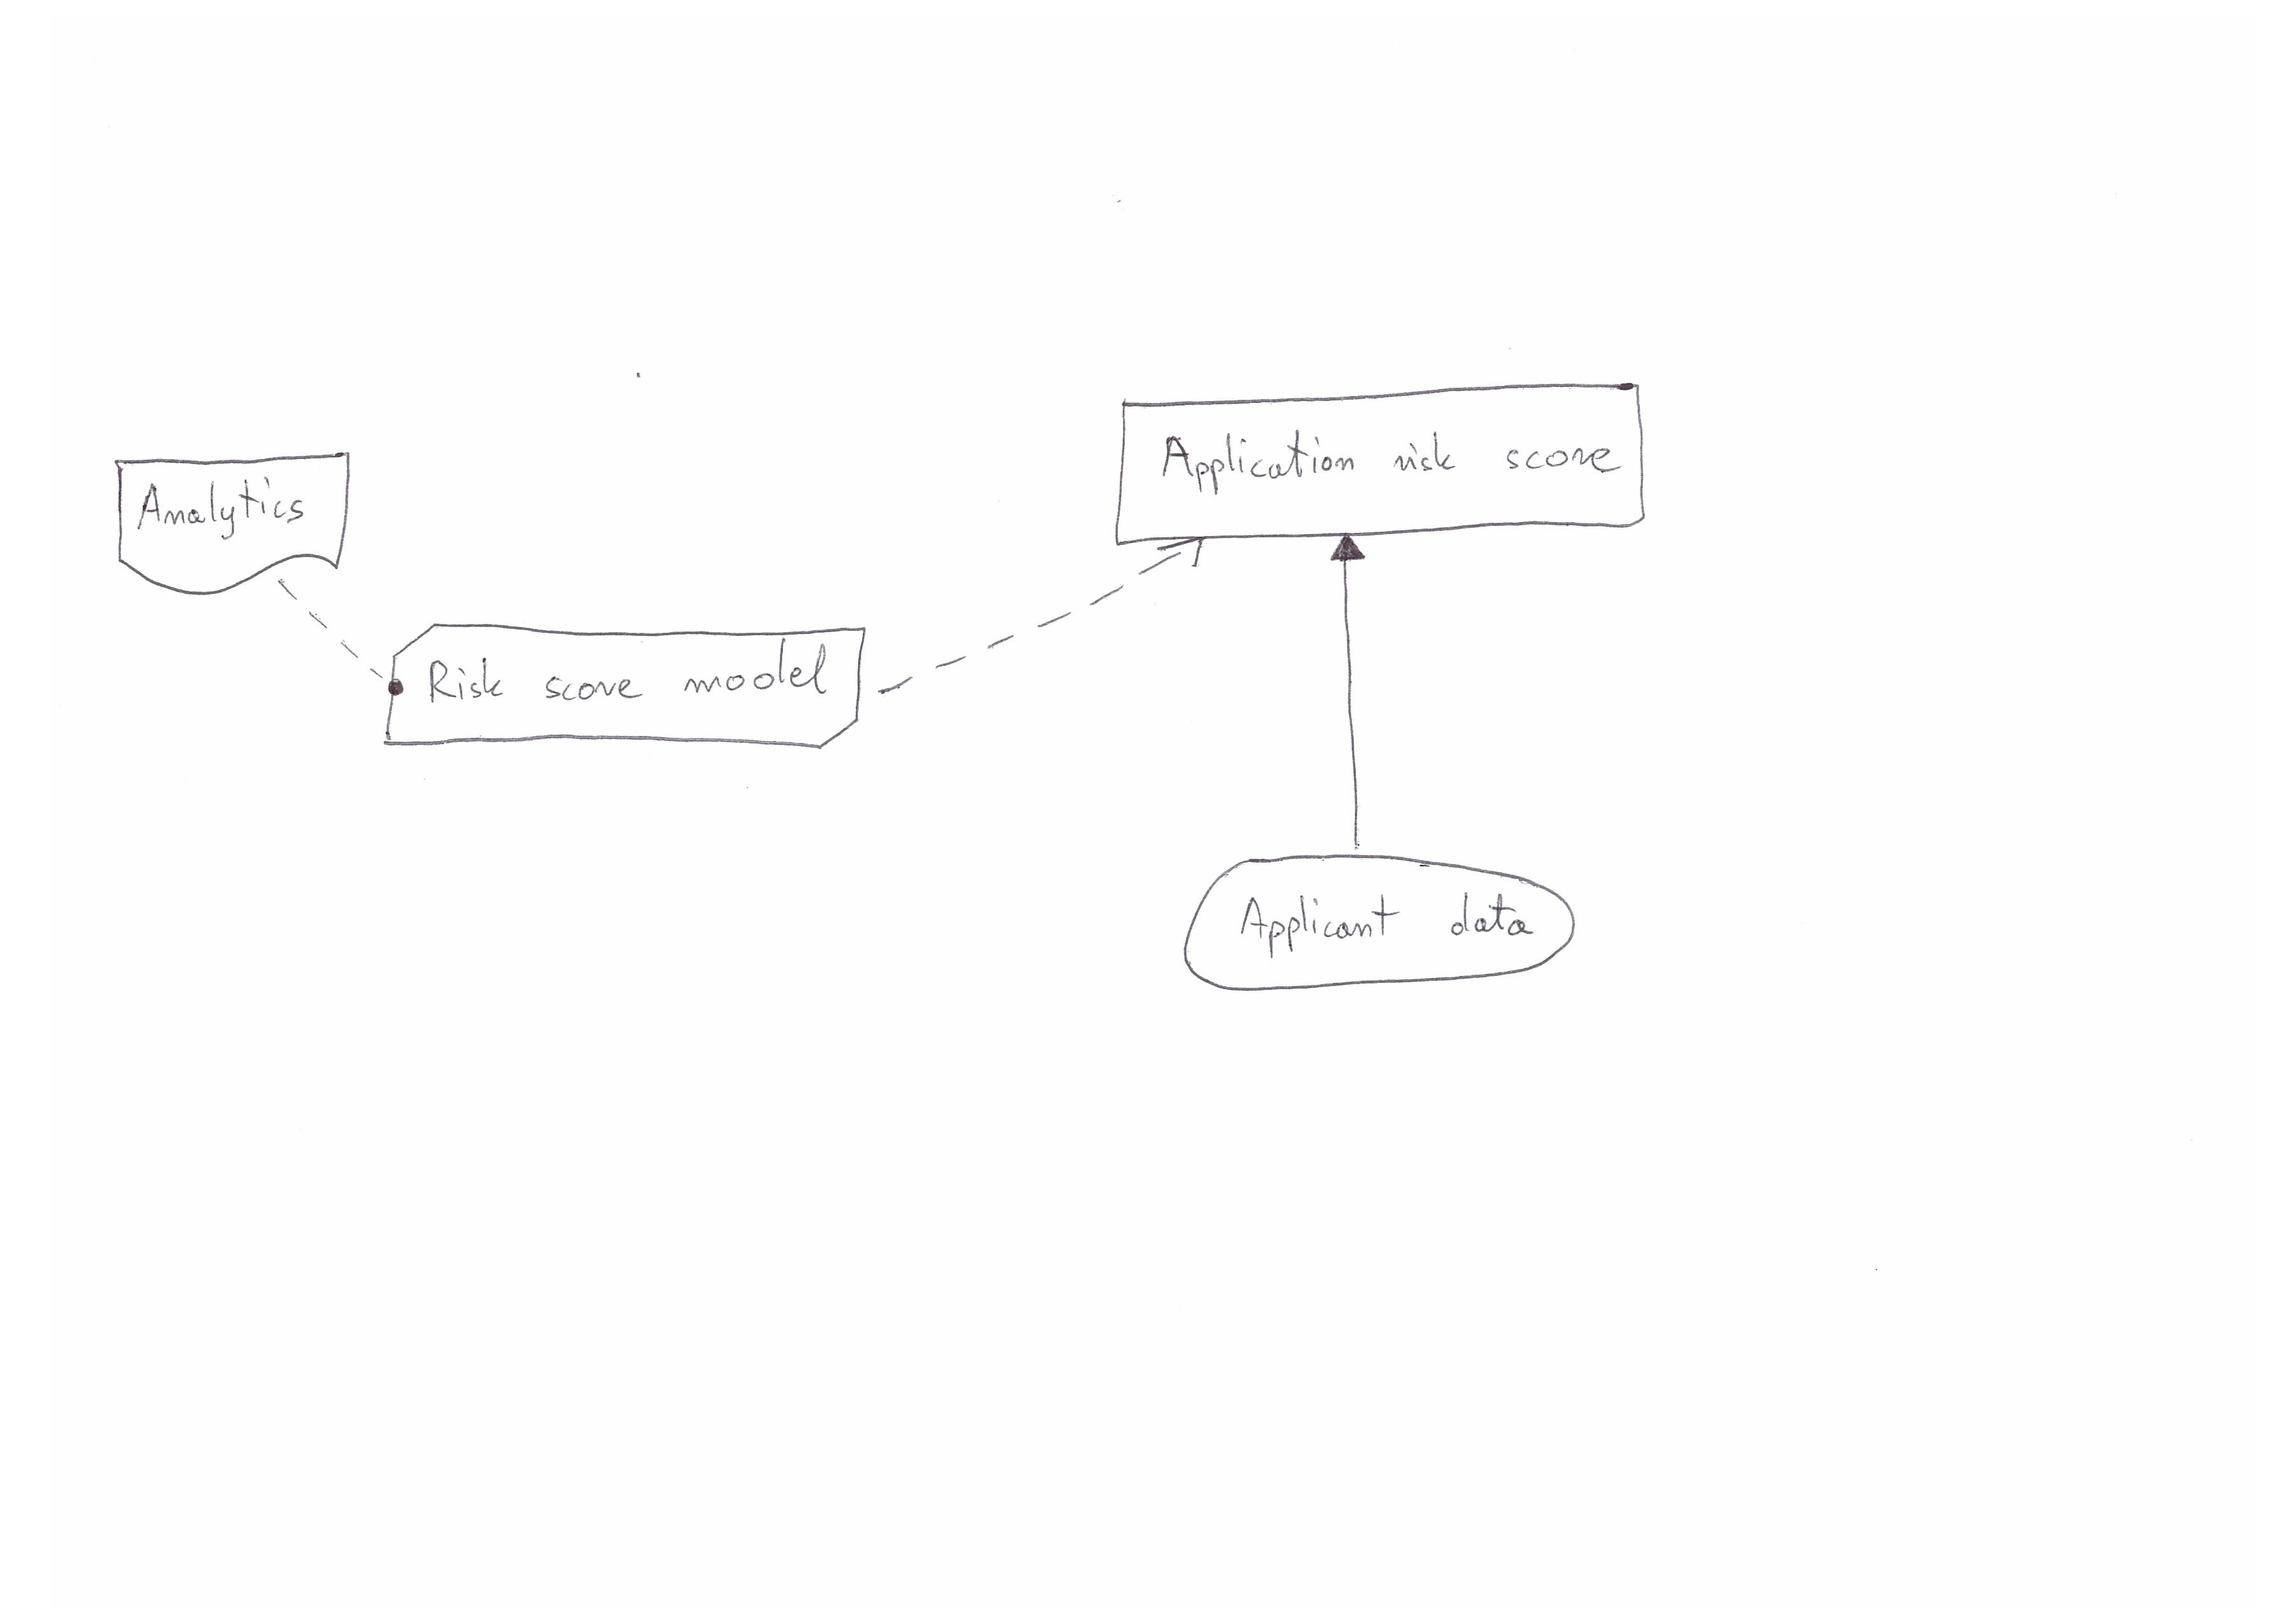arrow_authority_requirement: (257, 569, 404, 707)
arrow_information_requirement: (1311, 526, 1378, 854)
arrow_knowledge_requirement: (859, 529, 1218, 712)
node_decision: (1102, 374, 1659, 541)
node_input_data: (1172, 849, 1581, 1014)
node_knowledge_model: (385, 599, 877, 770)
node_knowledge_source: (104, 443, 358, 599)
text: (1147, 417, 1632, 504), (420, 642, 843, 726), (1226, 877, 1543, 961), (130, 469, 327, 550)
